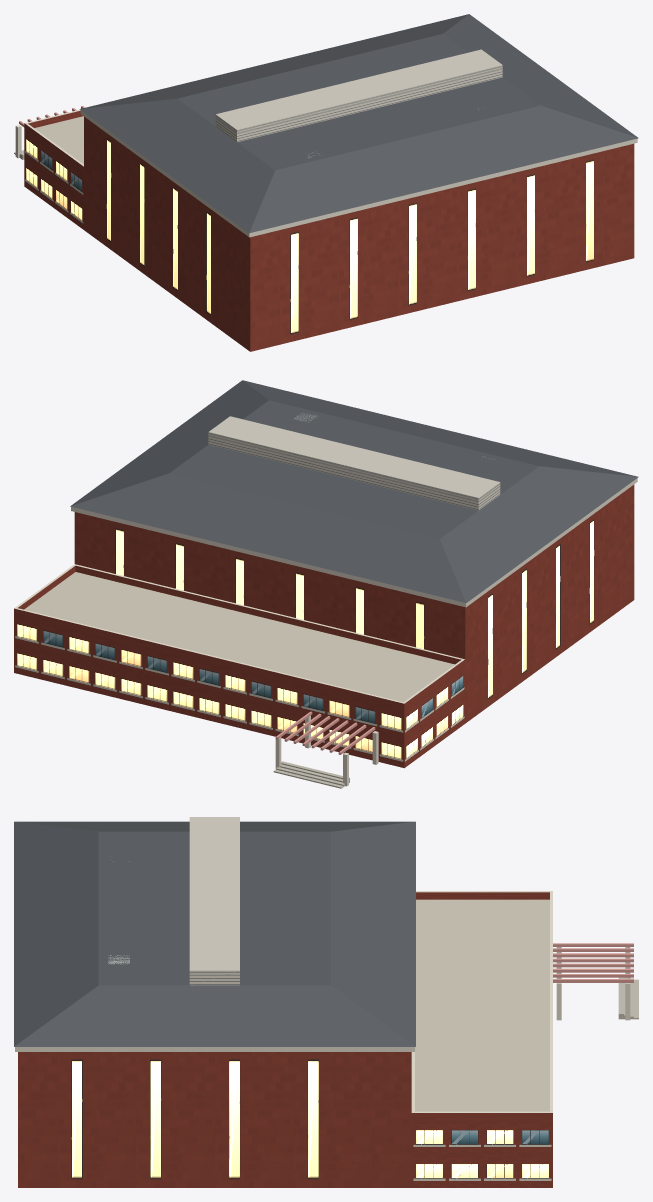
The model's file is gym.glb.
The picture shows the model from 3 angles, top to bottom: view 1: azimuth 30°, elevation 25°; view 2: azimuth 150°, elevation 25°; view 3: azimuth 270°, elevation 25°; orthographic projection. The views are drawn at different scales.
Visible parts, largest first — view 1: gym.001; view 2: gym.001; view 3: gym.001.
Part boxes in pixels (<box>): gym.001: <box>14,14,638,351</box>; gym.001: <box>14,380,638,788</box>; gym.001: <box>14,817,638,1187</box>.
Size of the model in its own units: 52.8 by 20 by 61.9.
Materials: 1 (1 with a texture image).
